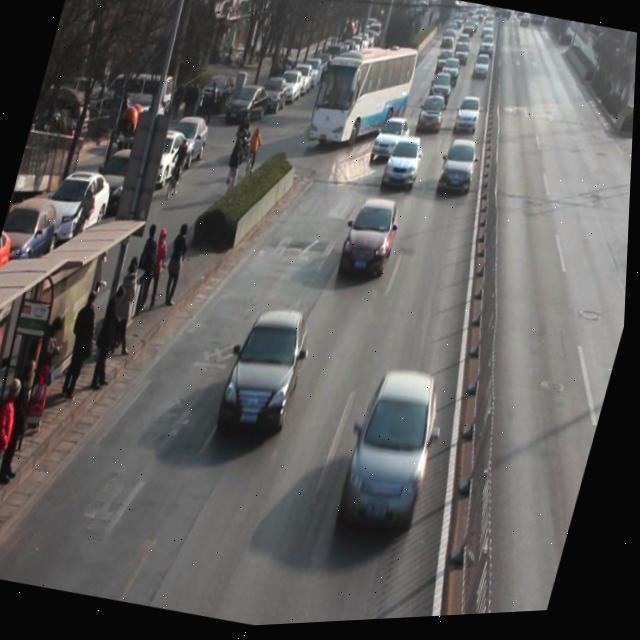car: (338, 368, 457, 546), (217, 304, 320, 449), (339, 197, 408, 289), (436, 140, 486, 206), (381, 136, 429, 203), (369, 116, 416, 175), (451, 96, 487, 145), (415, 98, 451, 142), (426, 74, 458, 115)
van: (307, 36, 422, 161)
